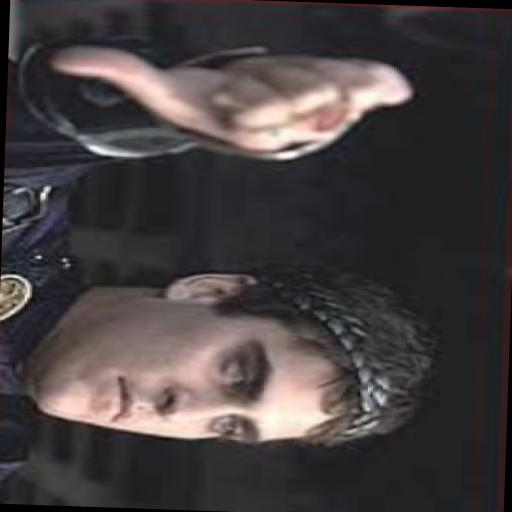Thumbs_Down: (30, 19, 426, 197)
